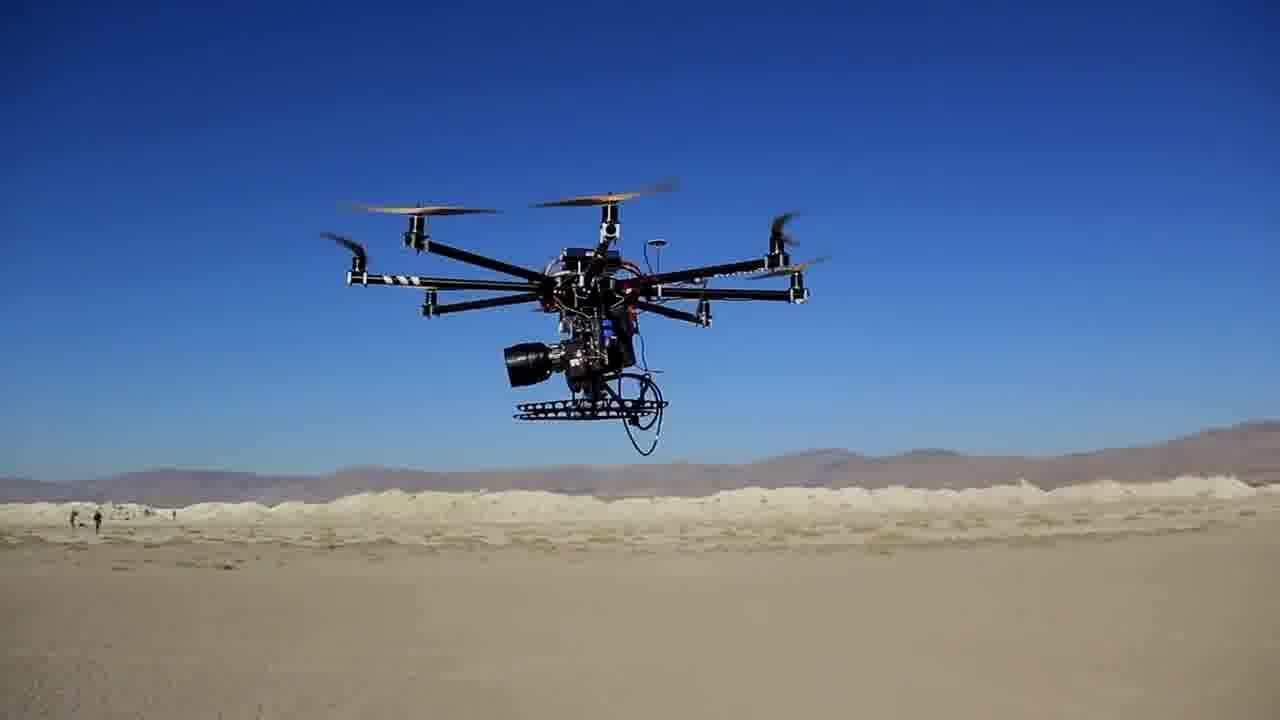drone: (321, 181, 839, 424)
